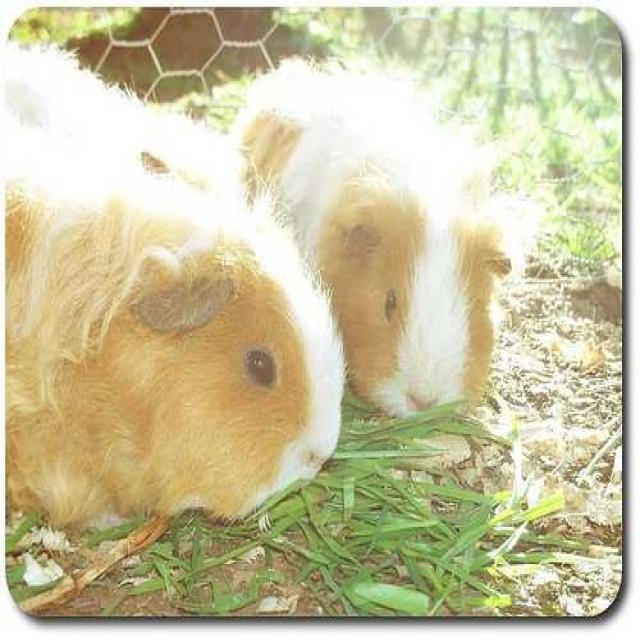guinea pig: (0, 43, 346, 528), (240, 60, 504, 416)
